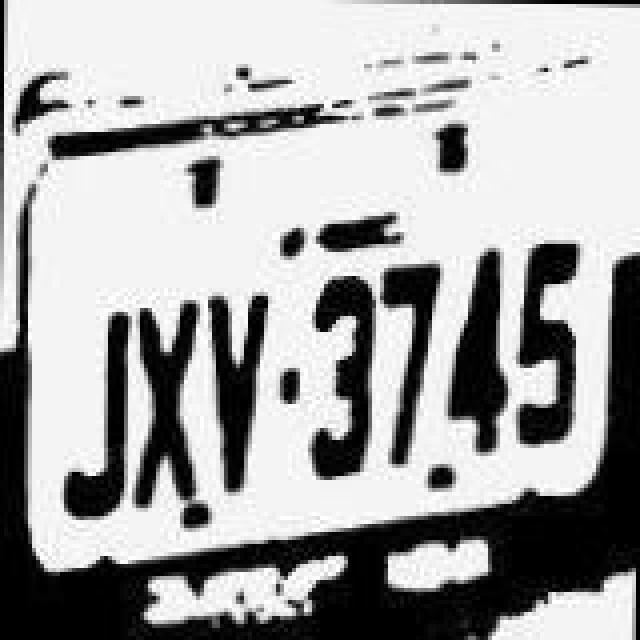3: (306, 266, 378, 494)
4: (444, 242, 516, 466)
5: (508, 228, 588, 476)
7: (376, 260, 448, 464)
J: (58, 298, 130, 526)
V: (202, 278, 274, 502)
X: (132, 284, 200, 512)
